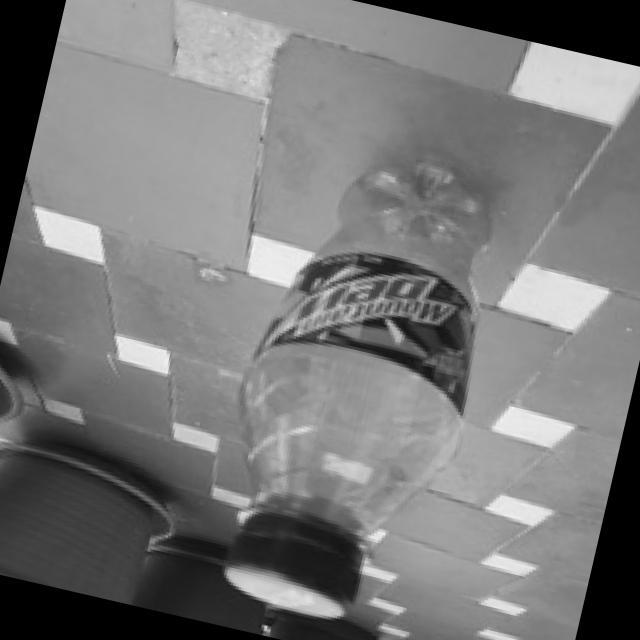good: (192, 117, 524, 640)
